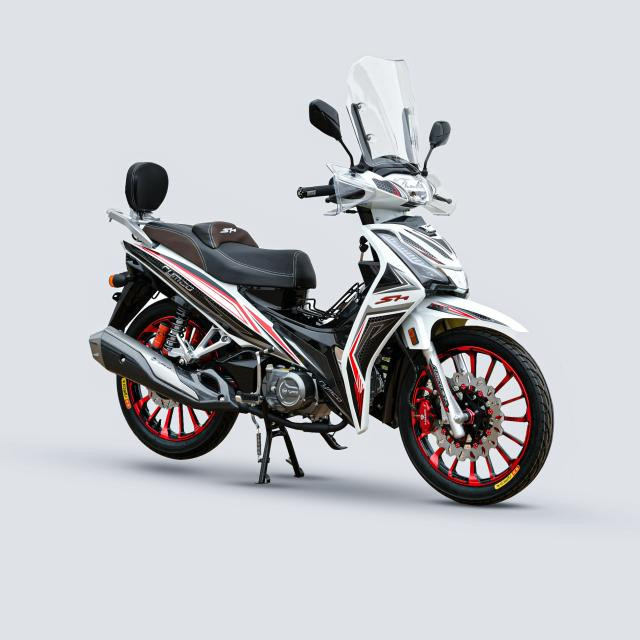Motorcycle: (89, 56, 554, 505)
